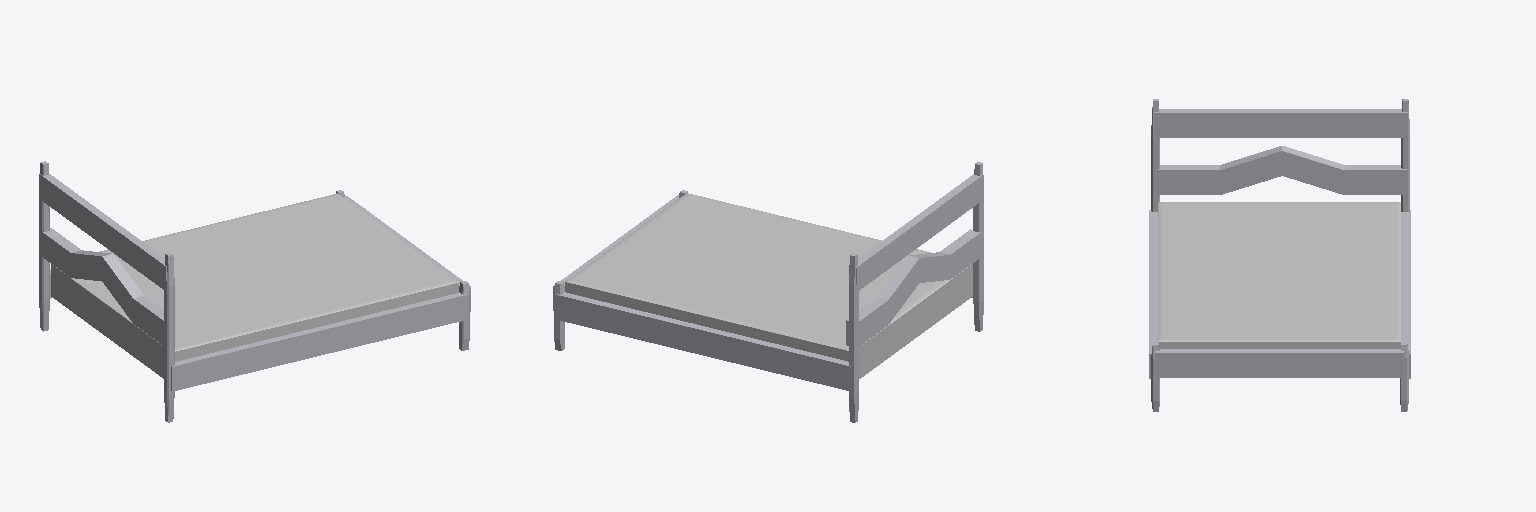
Rendered from cama.obj.
3 views of the same model, side by side, from view 1: azimuth 30°, elevation 25°; view 2: azimuth 150°, elevation 25°; view 3: azimuth 270°, elevation 25° (orthographic).
Parts seen in each view (by area): view 1: Cubo.001_Cubo.005, Cubo_Cubo.004; view 2: Cubo.001_Cubo.005, Cubo_Cubo.004; view 3: Cubo.001_Cubo.005, Cubo_Cubo.004.
Boxes of the visible parts, x1,y1,x2,y2 form: Cubo.001_Cubo.005: [51, 193, 458, 378]; Cubo_Cubo.004: [39, 161, 470, 422]; Cubo.001_Cubo.005: [565, 193, 972, 378]; Cubo_Cubo.004: [553, 162, 983, 422]; Cubo.001_Cubo.005: [1158, 202, 1400, 348]; Cubo_Cubo.004: [1149, 99, 1410, 411].
Size of the model in its own units: 1.91 by 1 by 1.42.